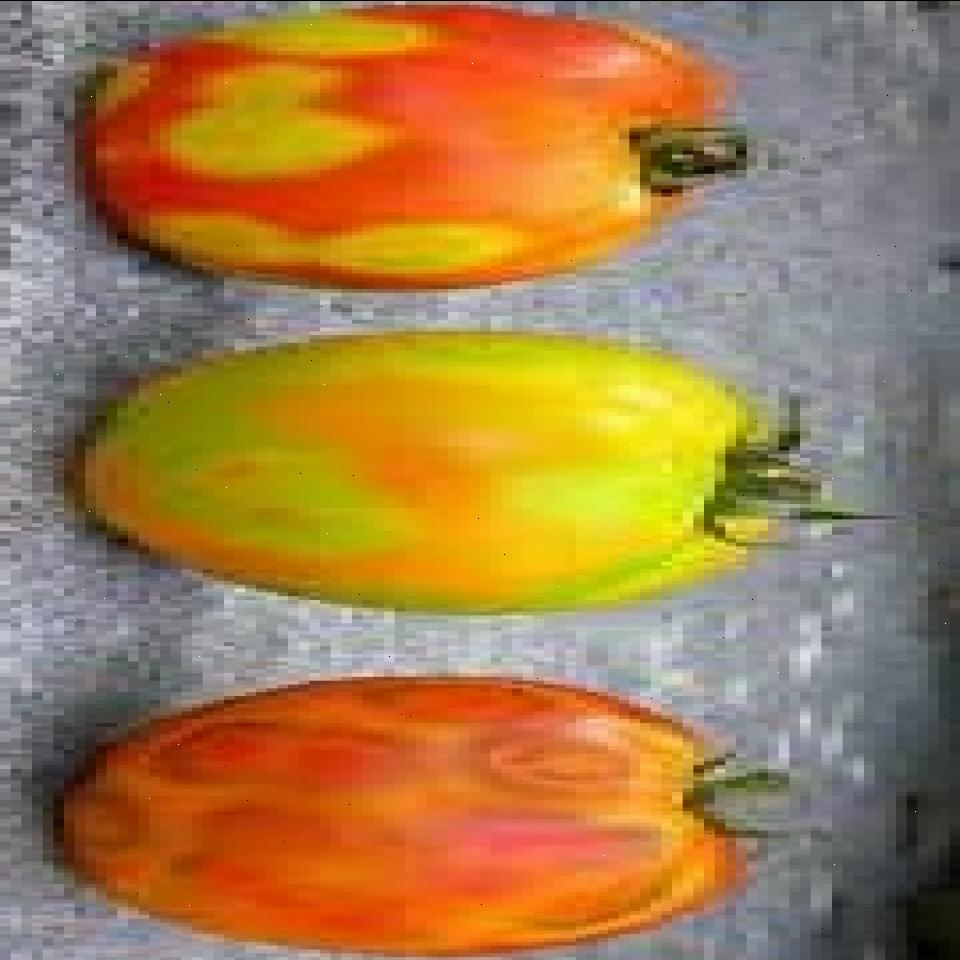Spotted wilt Virus: (64, 330, 821, 618), (53, 672, 779, 960), (75, 0, 747, 292)
